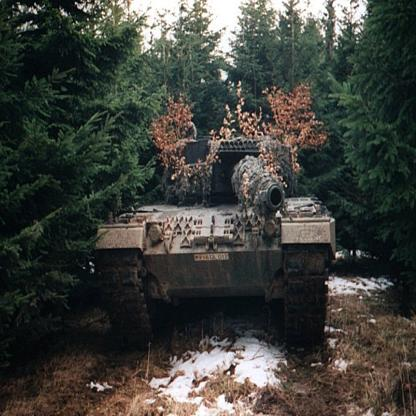Tank: (90, 119, 343, 350)
